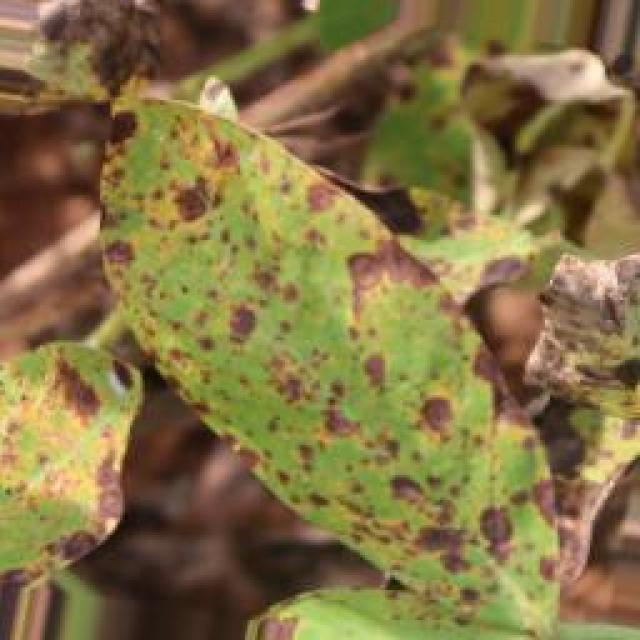Yellowish: (1, 101, 640, 628)
